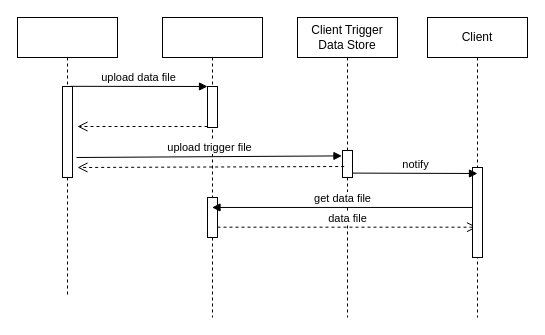
Some shapes in this 545 by 335 pixel diagram are drawn without their labels. Here are the shapes that lost their labels. From the top down, the centre of each, then its label:
At (x=67, y=157): "Data Source".
At (x=212, y=167): "Data Source Edge Data Store".
